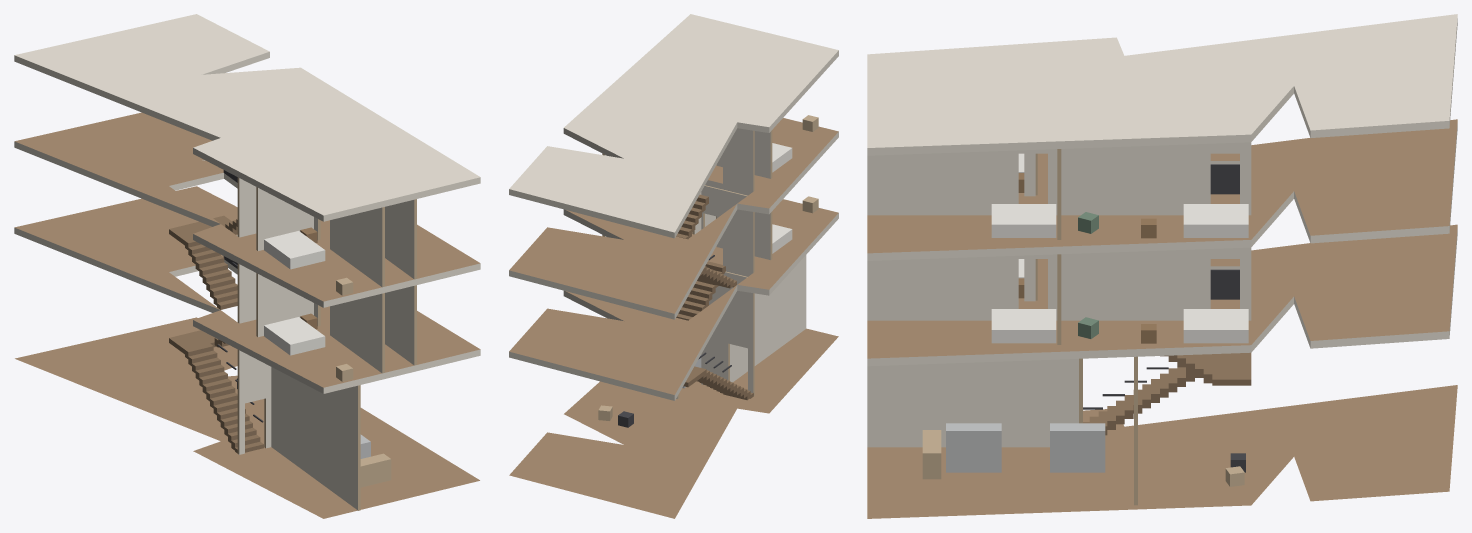
Rendered from interior.glb.
The picture shows the model from 3 angles, left to right: view 1: azimuth 30°, elevation 25°; view 2: azimuth 150°, elevation 25°; view 3: azimuth 270°, elevation 25°; orthographic projection. The views are drawn at different scales.
Parts seen in each view (by area): view 1: slabs, partitions, stair, coarse-s2, coarse-s1, coarse-s0; view 2: slabs, partitions, stair, coarse-s1, coarse-s2, coarse-s0; view 3: slabs, partitions, coarse-s0, stair, coarse-s1, coarse-s2.
Boxes of the visible parts, x1,y1,x2,y2 form: slabs: [14, 14, 480, 518]; partitions: [237, 177, 416, 510]; stair: [169, 170, 263, 453]; coarse-s2: [264, 227, 353, 295]; coarse-s1: [264, 313, 353, 381]; coarse-s0: [237, 378, 391, 487]; slabs: [509, 14, 838, 518]; partitions: [602, 117, 806, 399]; stair: [676, 194, 753, 400]; coarse-s1: [772, 196, 818, 253]; coarse-s2: [772, 115, 818, 172]; coarse-s0: [598, 355, 701, 427]; slabs: [867, 14, 1457, 518]; partitions: [867, 142, 1251, 505]; coarse-s0: [922, 423, 1245, 486]; stair: [1083, 164, 1251, 435]; coarse-s1: [991, 259, 1248, 343]; coarse-s2: [991, 153, 1248, 238].
Size of the model in its own units: 9.78 by 12.63 by 18.2.
